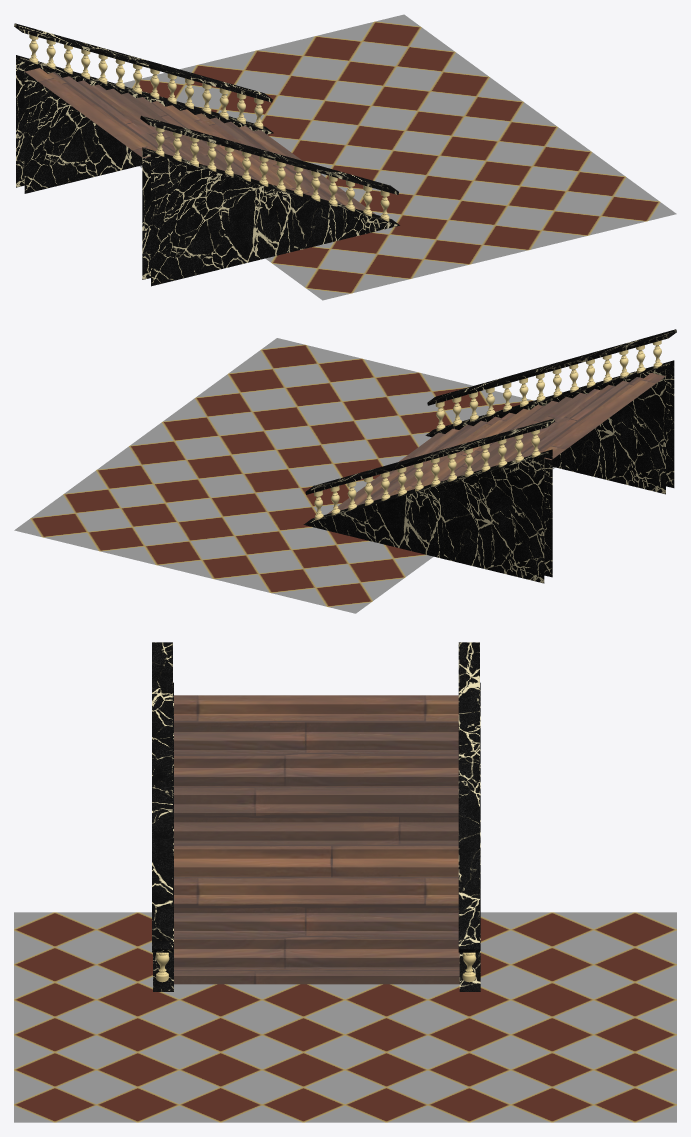
3 renders of one model, top to bottom at view 1: azimuth 30°, elevation 25°; view 2: azimuth 150°, elevation 25°; view 3: azimuth 270°, elevation 25°, orthographic. The views are drawn at different scales.
Visible parts, largest first — view 1: Escalier_Coter_Gauchefbx__3_, Escalier_Coter_droite___2_, Marbre__45_, Marbre__54_, Marbre__86_, Marbre__46_, Marbre__53_, Marbre__85_, Marbre__55_, Marbre__83_, Marbre__82_, Escalier_milieu___2_ (+1 smaller); view 2: Escalier_Coter_droite___2_, Escalier_Coter_Gauchefbx__3_, Marbre__45_, Marbre__46_, Marbre__86_, Marbre__83_, Marbre__54_, Marbre__47_, Marbre__82_, Marbre__85_, Marbre__53_, Escalier_milieu___2_ (+1 smaller); view 3: Escalier_Coter_droite___2_, Escalier_Coter_Gauchefbx__3_, Escalier_milieu___2_, Marbre__86_, Marbre__46_, Marbre__83_, Marbre__45_, Marbre__54_, Marbre__47_, Marbre__53_, Marbre__82_, Marbre__85_ (+2 smaller).
Boxes of the visible parts, x1,y1,x2,y2 form: Escalier_Coter_Gauchefbx__3_: [103, 115, 399, 286]; Escalier_Coter_droite___2_: [14, 23, 301, 193]; Marbre__45_: [286, 14, 471, 92]; Marbre__54_: [491, 164, 676, 242]; Marbre__86_: [354, 64, 539, 142]; Marbre__46_: [423, 114, 608, 192]; Marbre__53_: [384, 193, 558, 271]; Marbre__85_: [246, 93, 421, 166]; Marbre__55_: [265, 229, 440, 300]; Marbre__83_: [177, 43, 353, 119]; Marbre__82_: [320, 143, 489, 217]; Escalier_milieu___2_: [64, 97, 337, 187]; Escalier_Coter_droite___2_: [303, 418, 592, 583]; Escalier_Coter_Gauchefbx__3_: [399, 329, 676, 494]; Marbre__45_: [14, 482, 193, 557]; Marbre__46_: [146, 386, 324, 461]; Marbre__86_: [80, 434, 258, 509]; Marbre__83_: [128, 510, 306, 585]; Marbre__54_: [212, 338, 390, 413]; Marbre__47_: [242, 538, 420, 613]; Marbre__82_: [260, 414, 428, 487]; Marbre__85_: [194, 462, 362, 537]; Marbre__53_: [325, 365, 503, 438]; Escalier_milieu___2_: [363, 400, 626, 487]; Escalier_Coter_droite___2_: [357, 642, 480, 991]; Escalier_Coter_Gauchefbx__3_: [152, 642, 275, 991]; Escalier_milieu___2_: [270, 695, 363, 984]; Marbre__86_: [345, 1052, 511, 1122]; Marbre__46_: [179, 1052, 345, 1122]; Marbre__83_: [511, 982, 676, 1052]; Marbre__45_: [511, 1052, 676, 1122]; Marbre__54_: [14, 1052, 179, 1122]; Marbre__47_: [511, 912, 676, 982]; Marbre__53_: [14, 982, 179, 1052]; Marbre__82_: [179, 984, 345, 1052]; Marbre__85_: [345, 982, 511, 1052].
Size of the model in its own units: 1197 by 404 by 1200.
5 materials, 5 textured.
